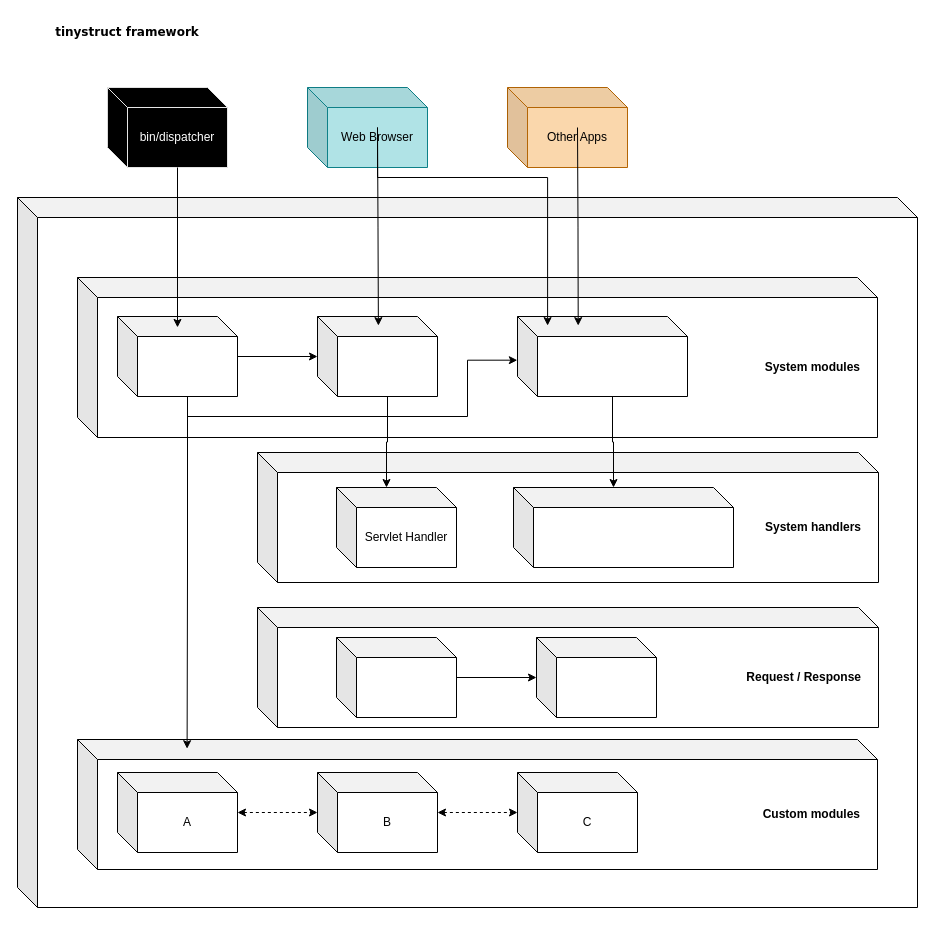
The diagram is 935 pixels wide and 925 high, and some of its shapes have lost their labels. The centre of each missing label's shape, as x and y in pixels:
"Channel Handler" goes at (x=623, y=527).
"Dispatcher" goes at (x=177, y=356).
"Netty Http Server" goes at (x=602, y=356).
"RequestBuilder" goes at (x=396, y=677).
"ResponseBuilder" goes at (x=596, y=677).
"Tomcat Server" goes at (x=377, y=356).
